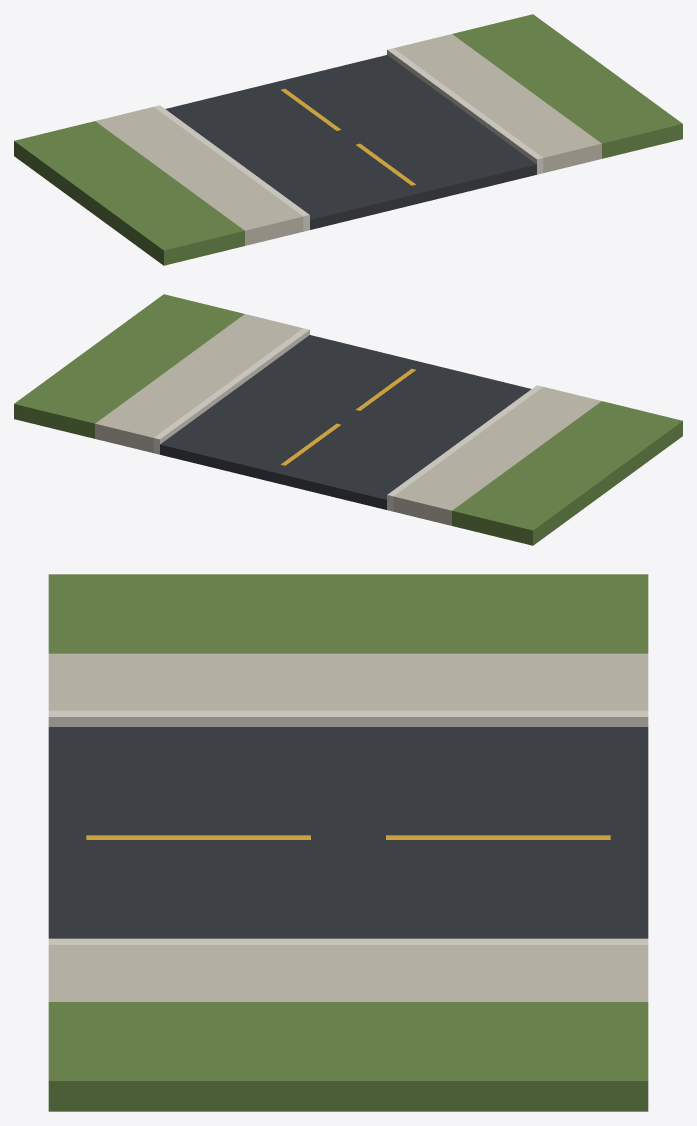
File: Road_2Lane_Sidewalk_Straight_8m.glb
3 renders of one model, top to bottom at view 1: azimuth 30°, elevation 25°; view 2: azimuth 150°, elevation 25°; view 3: azimuth 270°, elevation 25°, orthographic. The views are drawn at different scales.
Parts seen in each view (by area): view 1: Road_2Lane_Sidewalk_Straight_8m_Asphalt, Road_2Lane_Sidewalk_Straight_8m_Grass-edge, Road_2Lane_Sidewalk_Straight_8m_Sidewalk, Road_2Lane_Sidewalk_Straight_8m_Curb, Road_2Lane_Sidewalk_Straight_8m_PaintYellow; view 2: Road_2Lane_Sidewalk_Straight_8m_Asphalt, Road_2Lane_Sidewalk_Straight_8m_Grass-edge, Road_2Lane_Sidewalk_Straight_8m_Sidewalk, Road_2Lane_Sidewalk_Straight_8m_Curb, Road_2Lane_Sidewalk_Straight_8m_PaintYellow; view 3: Road_2Lane_Sidewalk_Straight_8m_Asphalt, Road_2Lane_Sidewalk_Straight_8m_Grass-edge, Road_2Lane_Sidewalk_Straight_8m_Sidewalk, Road_2Lane_Sidewalk_Straight_8m_Curb, Road_2Lane_Sidewalk_Straight_8m_PaintYellow.
Part boxes in pixels (x1,y1,x2,y2): Road_2Lane_Sidewalk_Straight_8m_Asphalt: (165, 55, 536, 229); Road_2Lane_Sidewalk_Straight_8m_Grass-edge: (14, 14, 682, 265); Road_2Lane_Sidewalk_Straight_8m_Sidewalk: (95, 34, 601, 245); Road_2Lane_Sidewalk_Straight_8m_Curb: (154, 48, 543, 231); Road_2Lane_Sidewalk_Straight_8m_PaintYellow: (281, 88, 415, 185); Road_2Lane_Sidewalk_Straight_8m_Asphalt: (160, 335, 531, 509); Road_2Lane_Sidewalk_Straight_8m_Grass-edge: (14, 294, 682, 545); Road_2Lane_Sidewalk_Straight_8m_Sidewalk: (95, 314, 601, 525); Road_2Lane_Sidewalk_Straight_8m_Curb: (153, 328, 542, 511); Road_2Lane_Sidewalk_Straight_8m_PaintYellow: (281, 368, 415, 465); Road_2Lane_Sidewalk_Straight_8m_Asphalt: (48, 727, 648, 938); Road_2Lane_Sidewalk_Straight_8m_Grass-edge: (48, 574, 648, 1111); Road_2Lane_Sidewalk_Straight_8m_Sidewalk: (48, 653, 648, 1001); Road_2Lane_Sidewalk_Straight_8m_Curb: (48, 710, 648, 944); Road_2Lane_Sidewalk_Straight_8m_PaintYellow: (86, 835, 610, 839).
Bounding box in the file's own units: 16 × 0.45 × 8.
